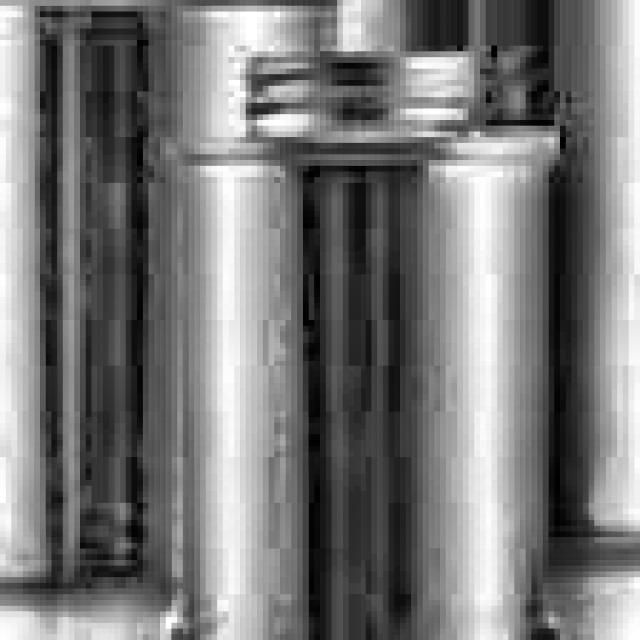metal: (149, 34, 577, 640), (200, 0, 640, 583), (0, 0, 360, 623)
